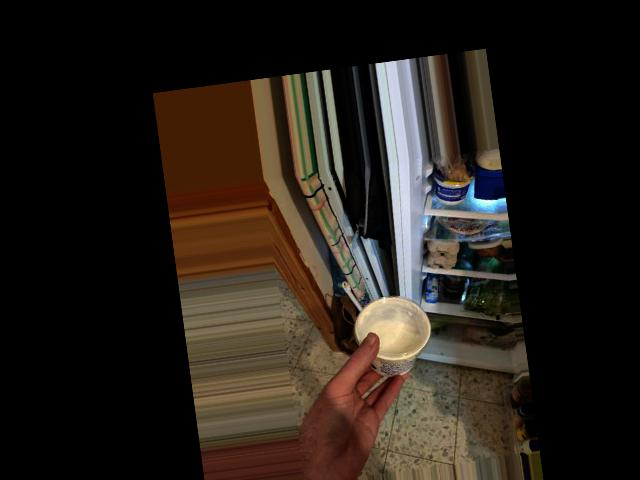cotage: (345, 293, 424, 386)
